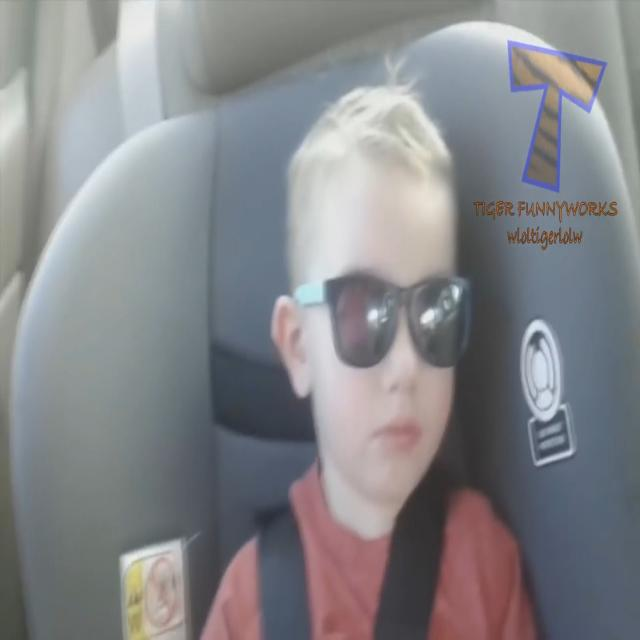safe: (268, 70, 470, 640)
